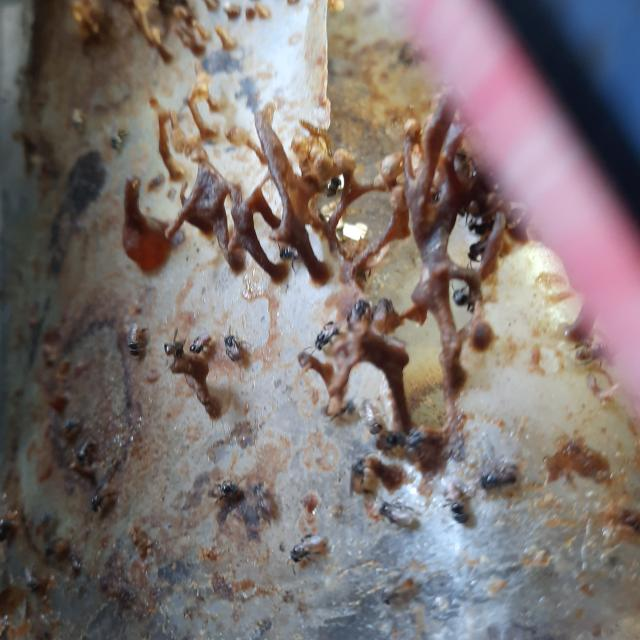honeybee: (283, 318, 330, 377), (474, 458, 528, 490), (355, 422, 401, 454), (212, 331, 251, 368), (290, 538, 348, 562), (444, 284, 474, 320), (348, 290, 372, 334), (153, 330, 178, 370), (117, 316, 134, 370), (442, 491, 468, 525), (202, 469, 234, 491), (188, 341, 210, 362)
